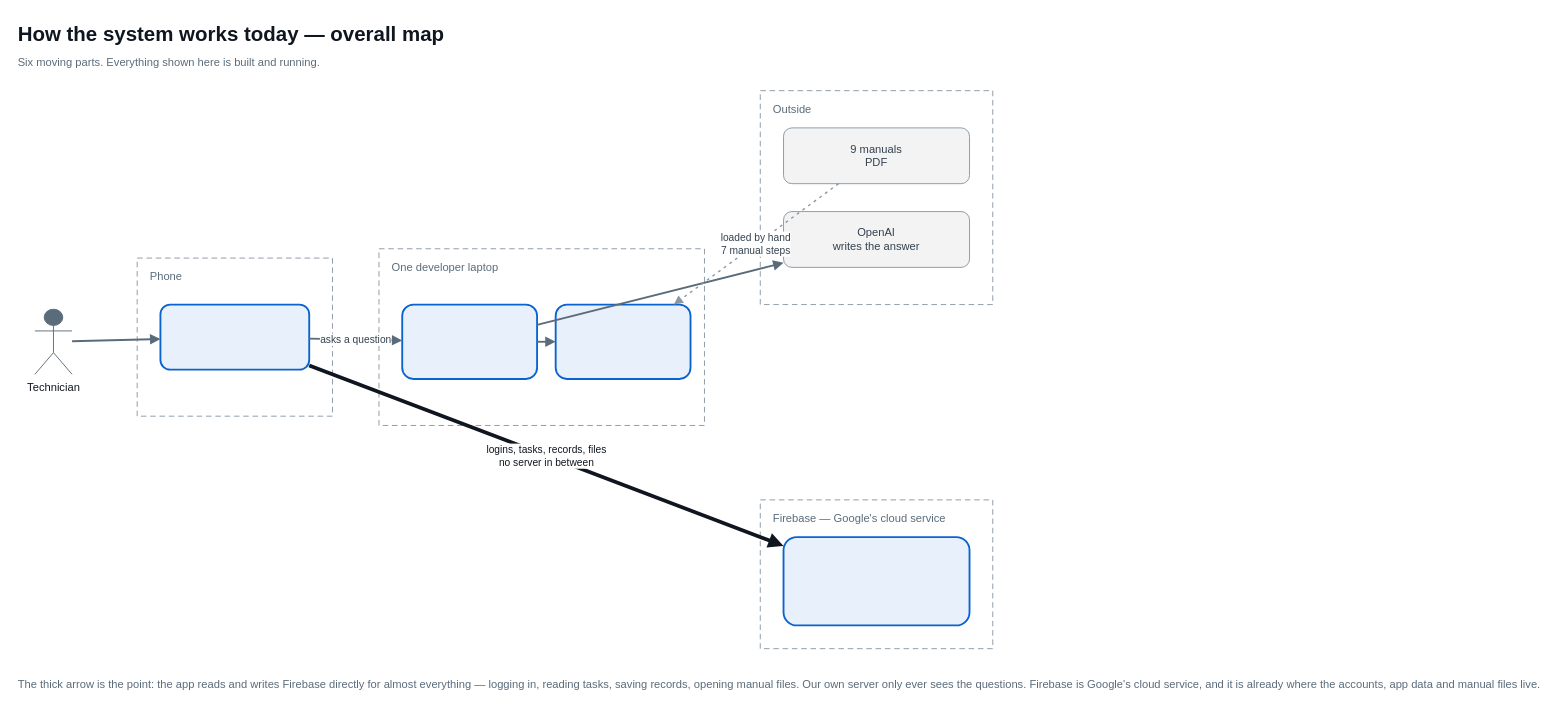
Some shapes in this 1556 by 724 pixel diagram are drawn without their labels. The centre of each missing label's shape, as x and y in pixels:
Logins App data Manual files: point 876,581
Manual search finds the right page: point 622,341
Our server answers questions: point 469,341
The app: point 234,336
